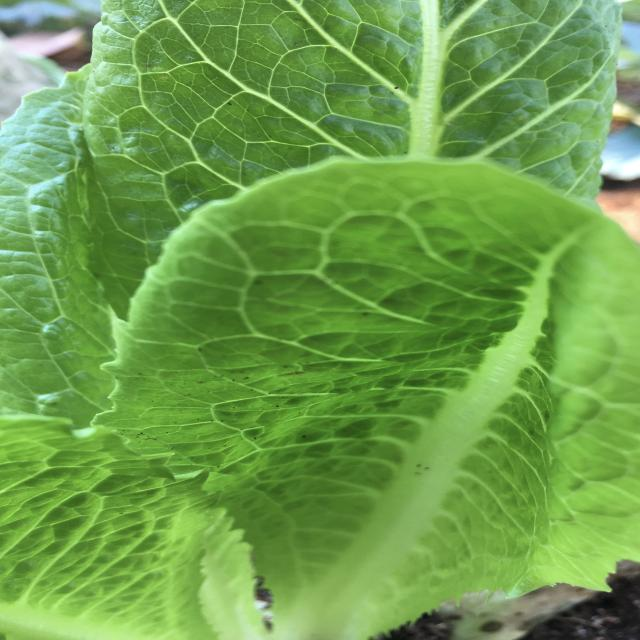Healthy Lettuce: (4, 2, 636, 636)
